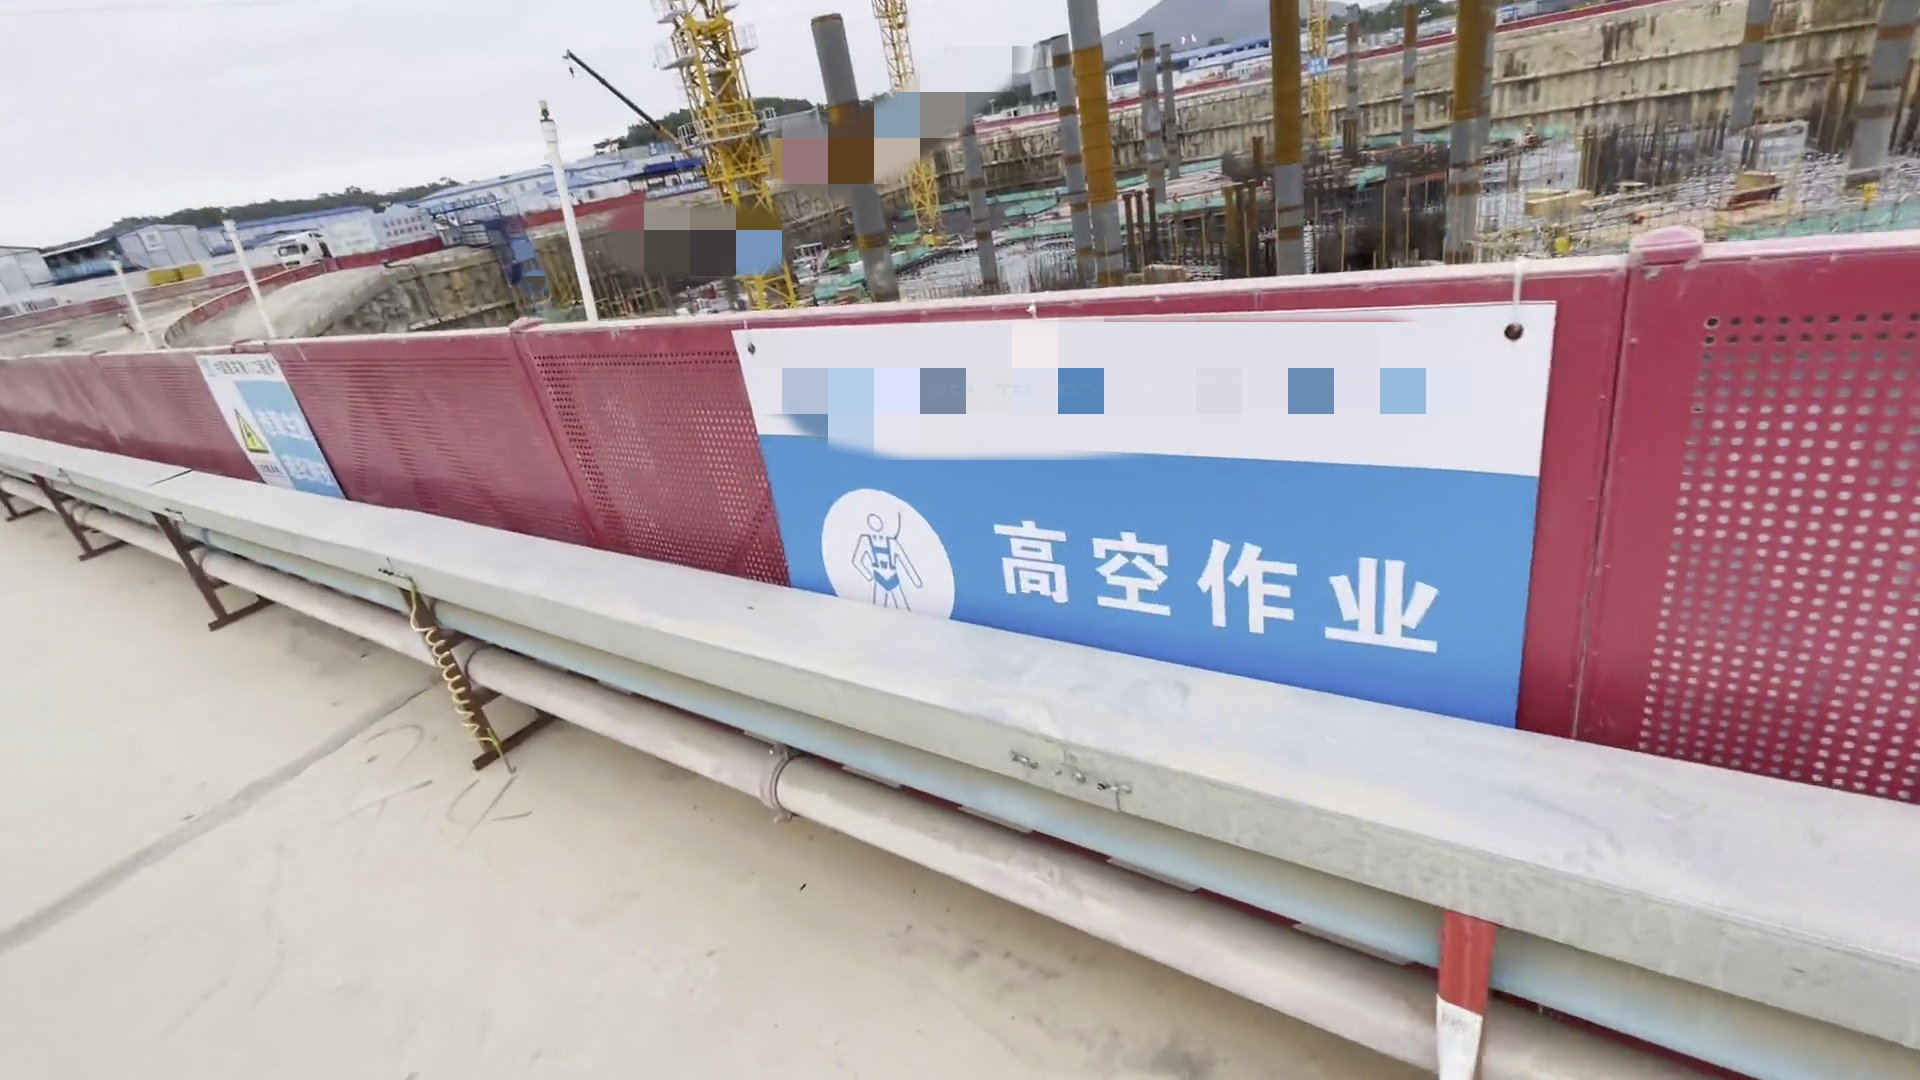fence: (18, 314, 1772, 756)
slogan: (756, 363, 1482, 684), (208, 357, 347, 498)
